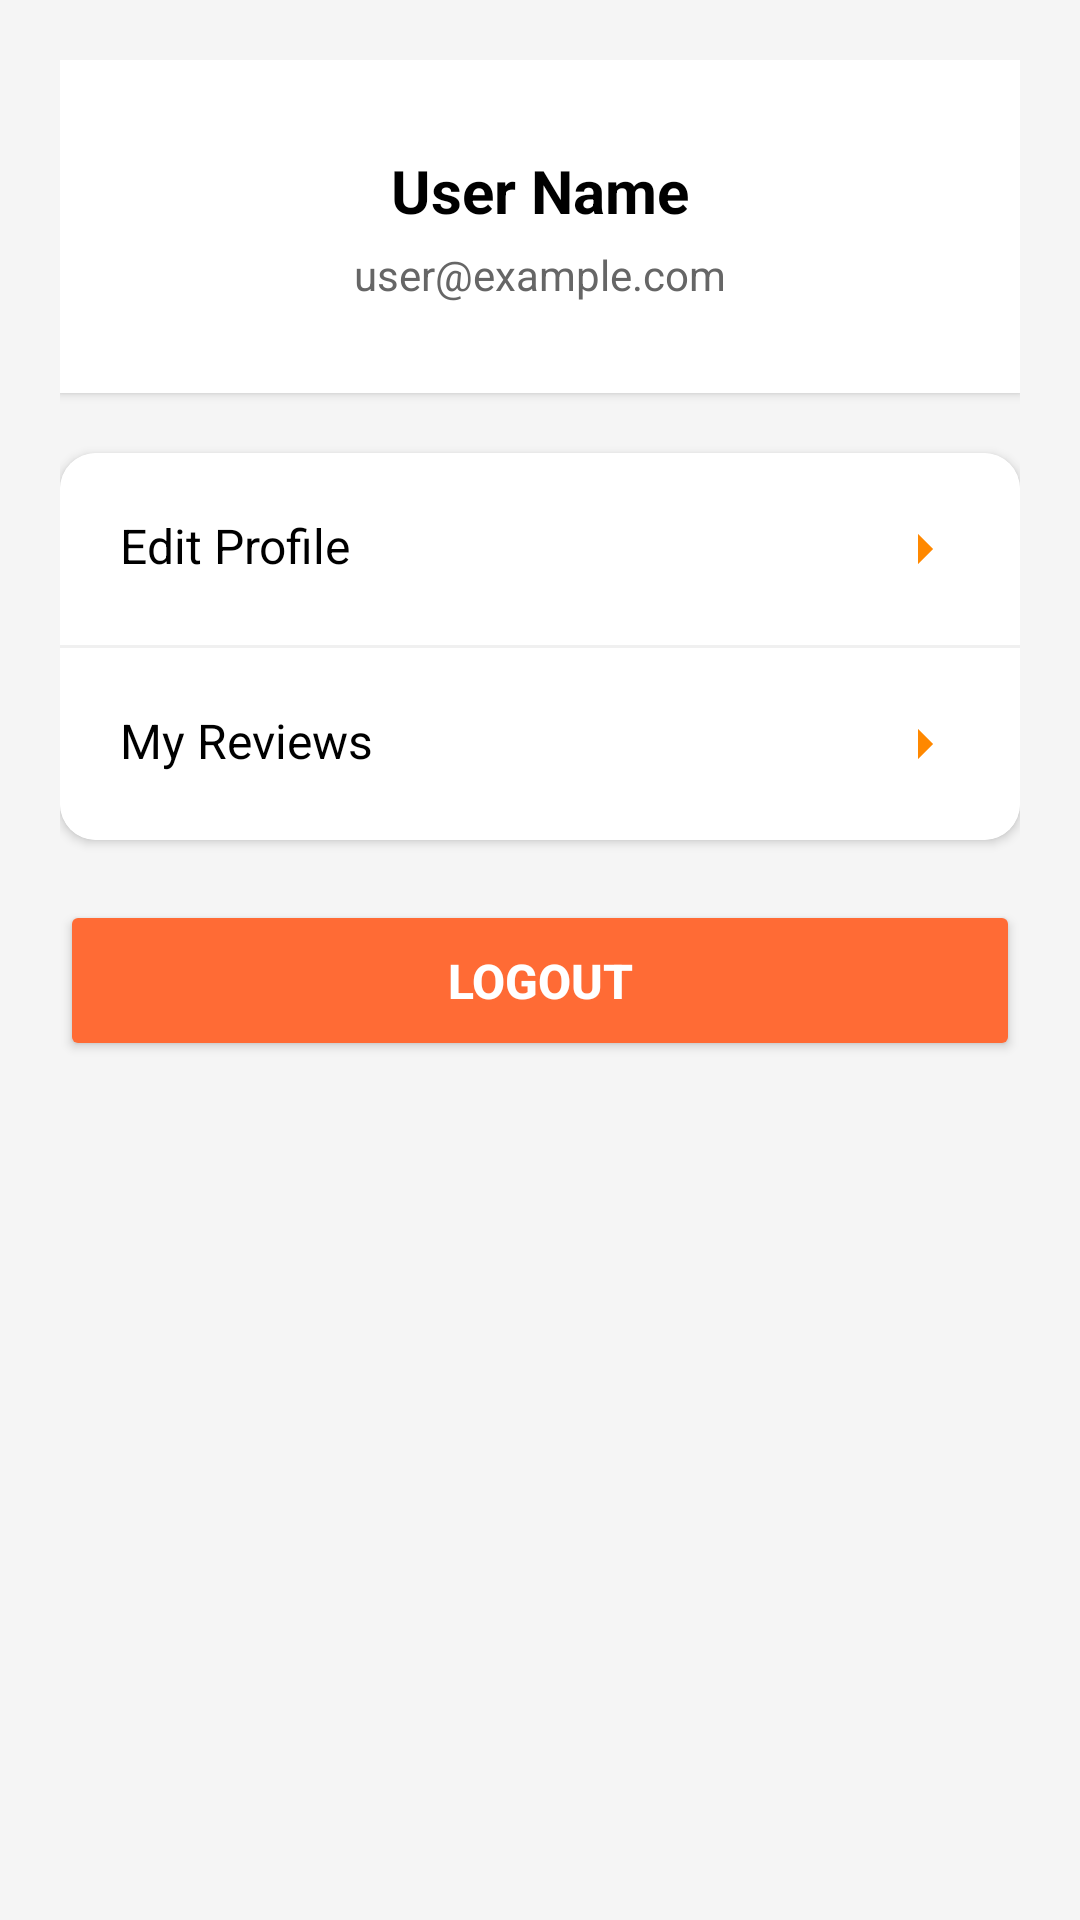

Screen size 1080px×1920px. Icon name, then its box in pixels as [x1=x1, y1=y1, x2=x2, y2=y2]:
Arrow: [x1=918, y1=534, x2=933, y2=564], [x1=918, y1=729, x2=933, y2=759]
